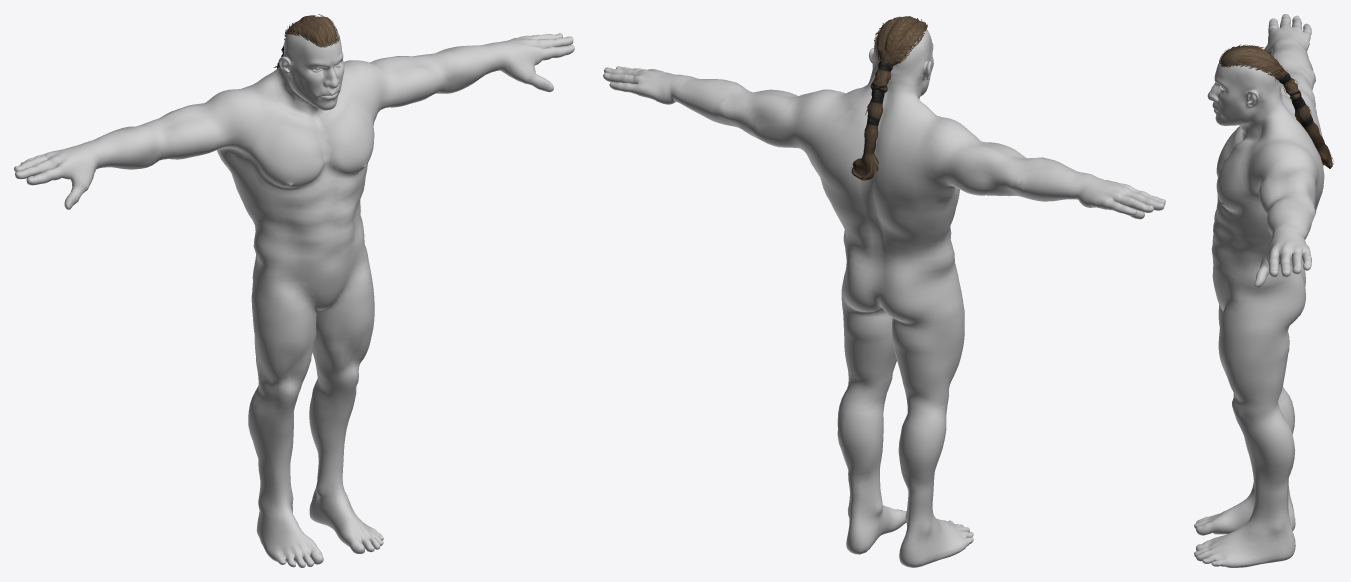
Rendered from rider1.obj.
The picture shows the model from 3 angles, left to right: view 1: azimuth 30°, elevation 25°; view 2: azimuth 150°, elevation 25°; view 3: azimuth 270°, elevation 25°; orthographic projection. The views are drawn at different scales.
Parts seen in each view (by area): view 1: Body, Hair; view 2: Body, Hair; view 3: Body, Hair.
Part boxes in pixels (x1,y1,x2,y2): Body: [14, 27, 574, 567]; Hair: [273, 14, 339, 68]; Body: [603, 29, 1165, 567]; Hair: [851, 16, 927, 180]; Body: [1194, 14, 1324, 567]; Hair: [1219, 44, 1333, 168].
Bounding box in the file's own units: 239 × 215 × 55.76.
